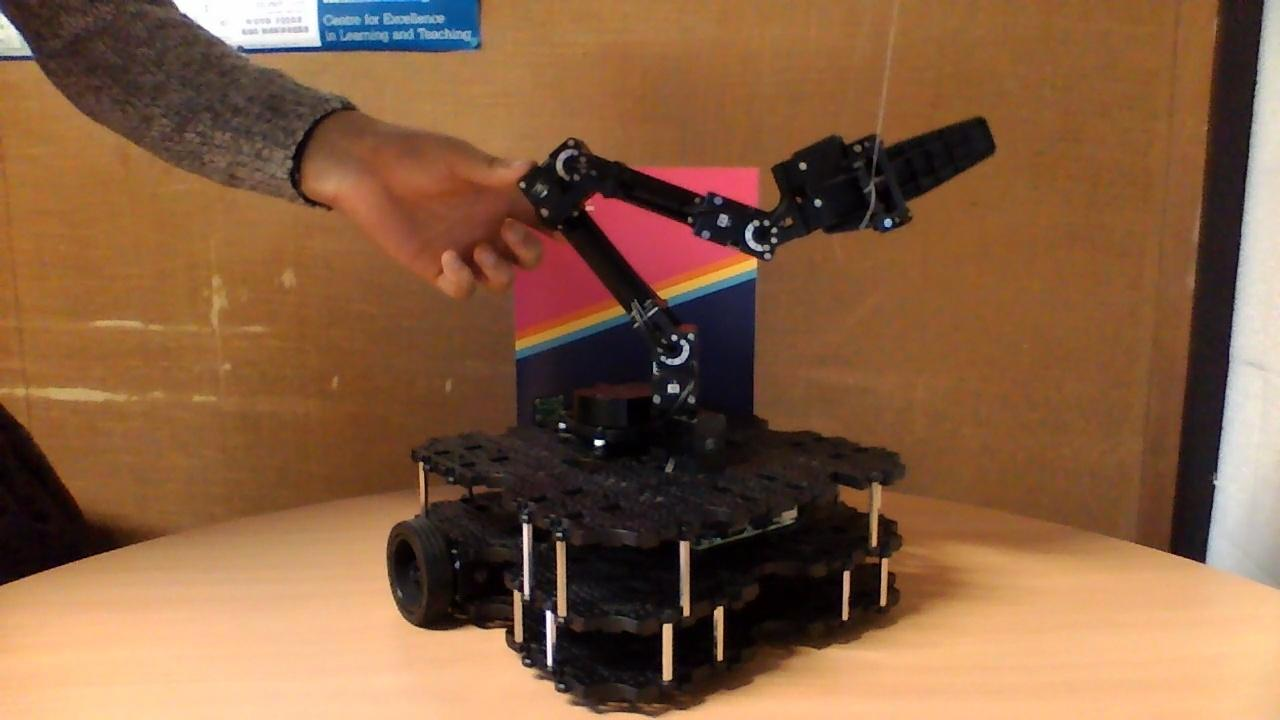Arm: (522, 171, 708, 374)
Hand: (770, 113, 998, 257)
Wrist: (555, 136, 782, 266)
base: (382, 380, 909, 706)
